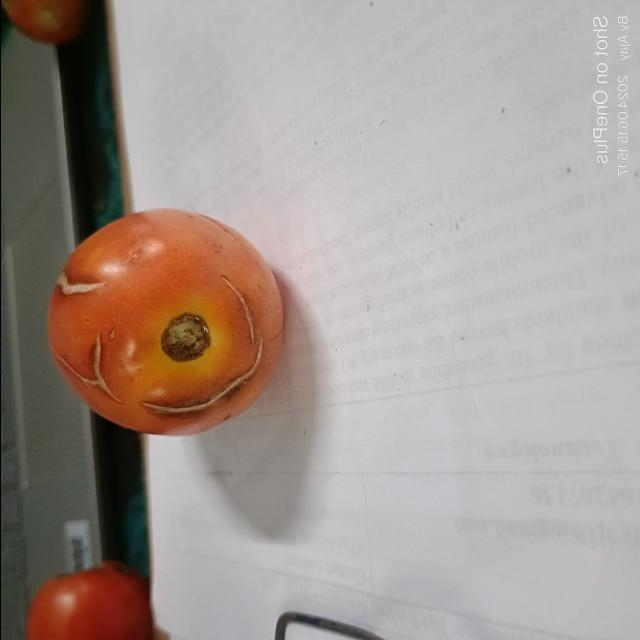tomato_cracking: (136, 344, 264, 425), (49, 328, 117, 406), (217, 266, 256, 342), (51, 275, 100, 298)
